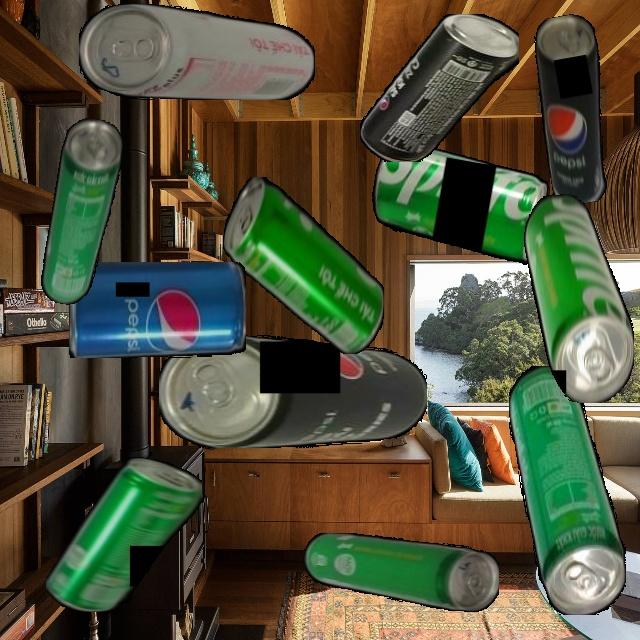debris: (359, 136, 553, 295), (159, 334, 427, 448), (508, 365, 626, 615), (222, 176, 384, 354), (46, 456, 202, 612), (360, 13, 519, 162), (523, 192, 634, 403), (79, 3, 315, 100), (524, 11, 624, 208), (36, 115, 128, 309), (68, 261, 246, 358), (303, 533, 499, 612)
